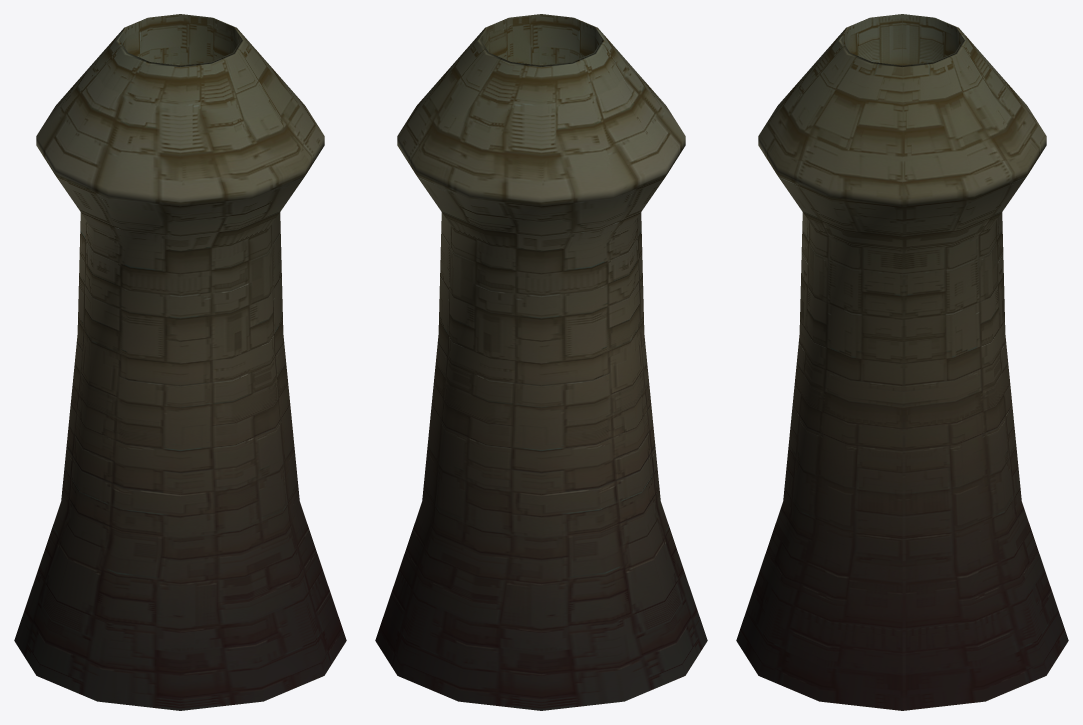
Rendered from Tower.fbx.
The picture shows the model from 3 angles, left to right: view 1: azimuth 30°, elevation 25°; view 2: azimuth 150°, elevation 25°; view 3: azimuth 270°, elevation 25°; orthographic projection.
Visible parts, largest first — view 1: Tower01; view 2: Tower01; view 3: Tower01.
Part boxes in pixels (bbox=[...]): Tower01: bbox=[14, 14, 346, 710]; Tower01: bbox=[375, 14, 707, 710]; Tower01: bbox=[736, 14, 1068, 710].
Size of the model in its own units: 294 by 586 by 294.
